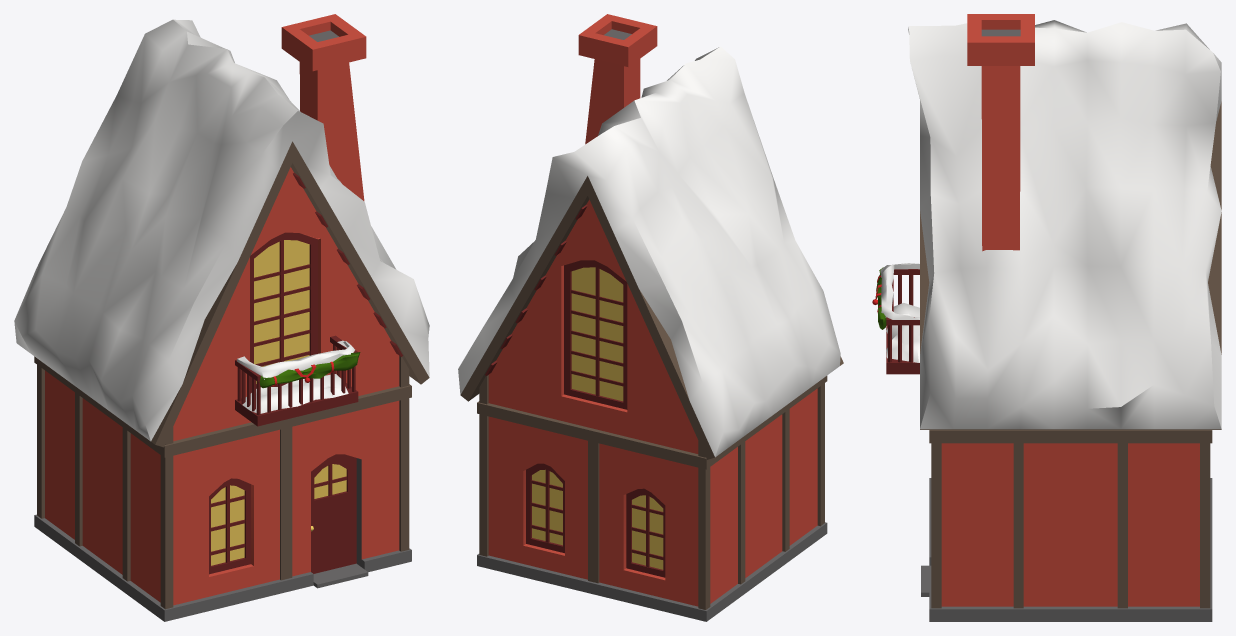
Rendered from House_3.glb.
3 renders of one model, left to right at view 1: azimuth 30°, elevation 25°; view 2: azimuth 150°, elevation 25°; view 3: azimuth 270°, elevation 25°, orthographic. The views are drawn at different scales.
Visible parts, largest first — view 1: House_3; view 2: House_3; view 3: House_3.
Boxes of the visible parts, <box> form: House_3: <box>14,14,429,621</box>; House_3: <box>458,14,843,621</box>; House_3: <box>872,14,1221,621</box>.
Size of the model in its own units: 1.26 by 2.04 by 1.15.
1 material, 1 textured.
